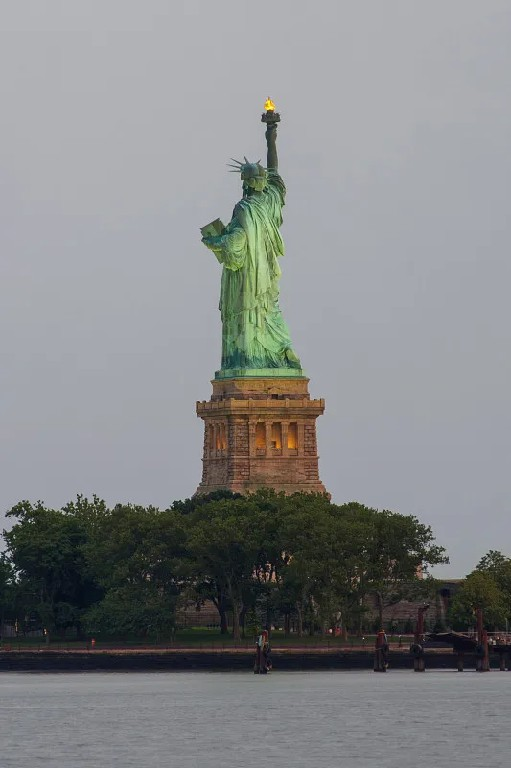SL: (193, 95, 332, 497)
